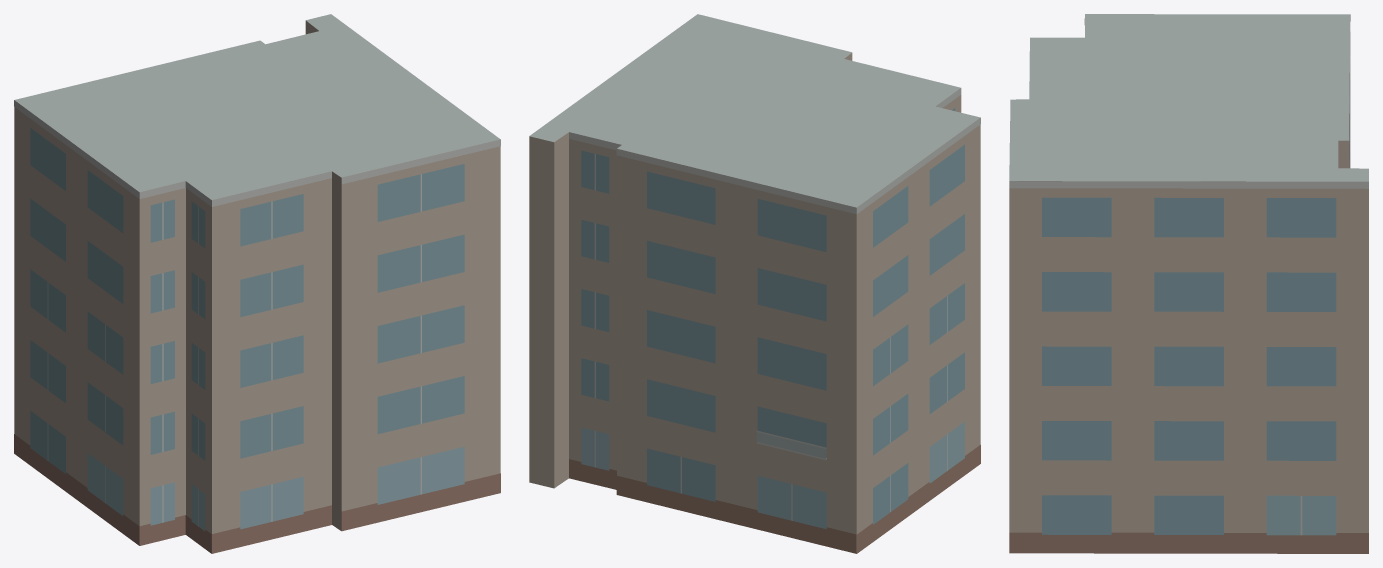
File: survey-upis-33042703.glb
3 views of the same model, side by side, from view 1: azimuth 30°, elevation 25°; view 2: azimuth 150°, elevation 25°; view 3: azimuth 270°, elevation 25° (orthographic). The views are drawn at different scales.
Parts seen in each view (by area): view 1: survey-upis-33042703.tmp; view 2: survey-upis-33042703.tmp; view 3: survey-upis-33042703.tmp.
Boxes of the visible parts, box(x1,y1,x2,y2) form: survey-upis-33042703.tmp: box(14, 14, 500, 553); survey-upis-33042703.tmp: box(529, 14, 980, 553); survey-upis-33042703.tmp: box(1009, 14, 1368, 553).
Bounding box in the file's own units: 12.28 × 12.7 × 11.13.
